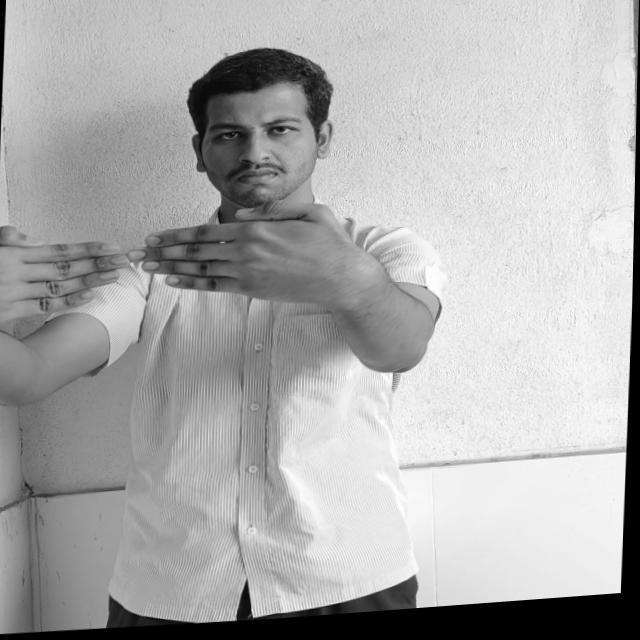Night: (0, 197, 356, 334)
